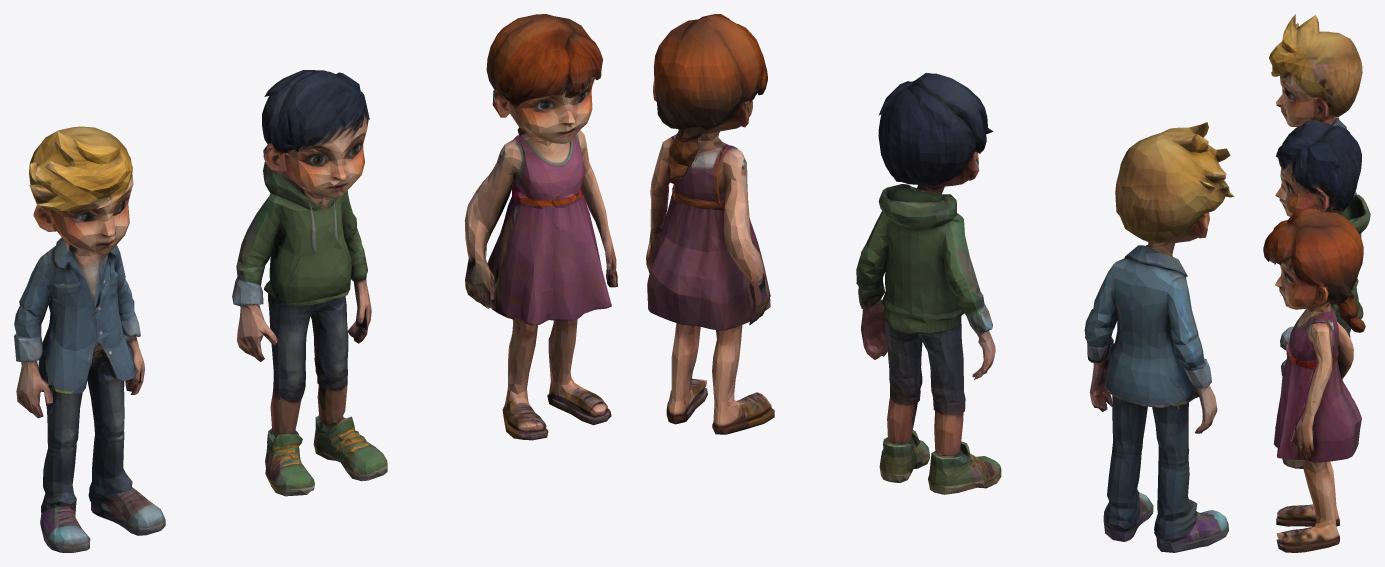
The model's file is Generate_three_styliz_0512051013_texture.fbx.
The picture shows the model from 3 angles, left to right: view 1: azimuth 30°, elevation 25°; view 2: azimuth 150°, elevation 25°; view 3: azimuth 270°, elevation 25°; orthographic projection. The views are drawn at different scales.
Parts seen in each view (by area): view 1: temp; view 2: temp; view 3: temp.
Boxes of the visible parts, x1,y1,x2,y2 form: temp: [14, 14, 617, 552]; temp: [646, 14, 1234, 552]; temp: [1263, 14, 1370, 552].
Bounding box in the file's own units: 198 × 133 × 39.
Materials: 1 (1 with a texture image).
